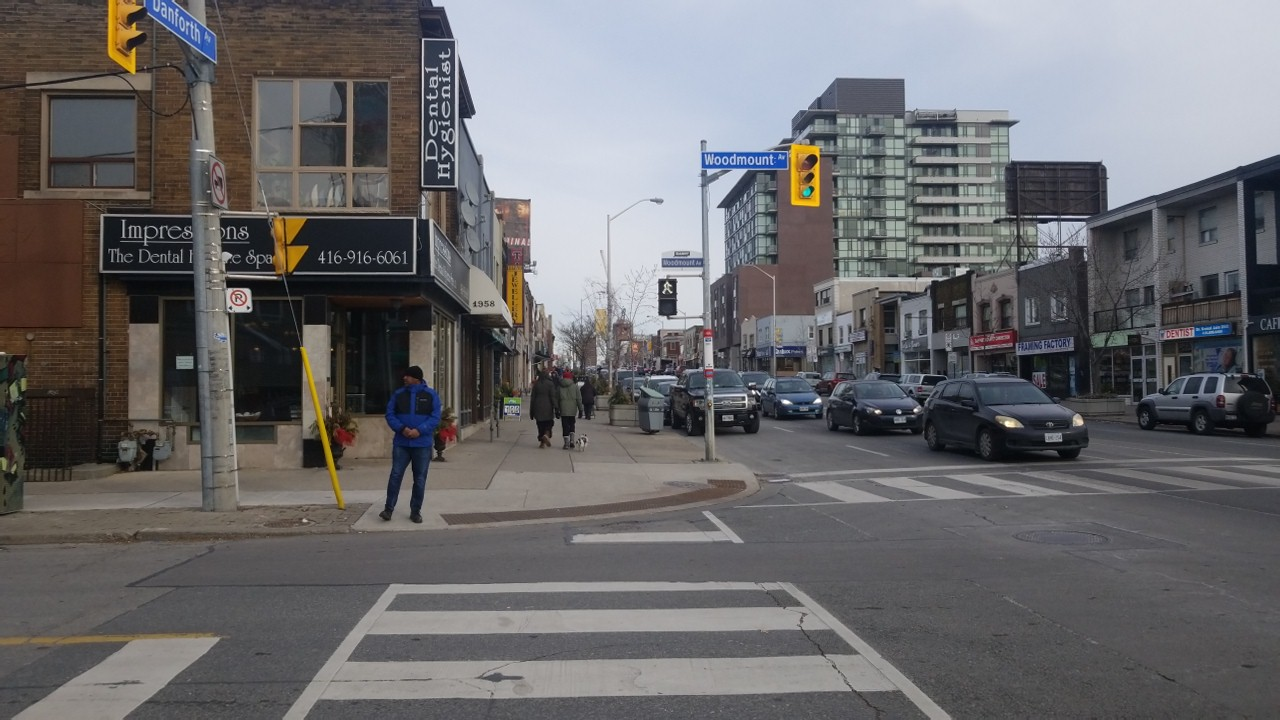light: (653, 274, 683, 320)
